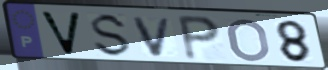8: (274, 19, 314, 65)
O: (226, 17, 272, 63)
P: (175, 13, 223, 63)
S: (90, 12, 134, 59)
V: (37, 10, 84, 58), (130, 16, 175, 58)
